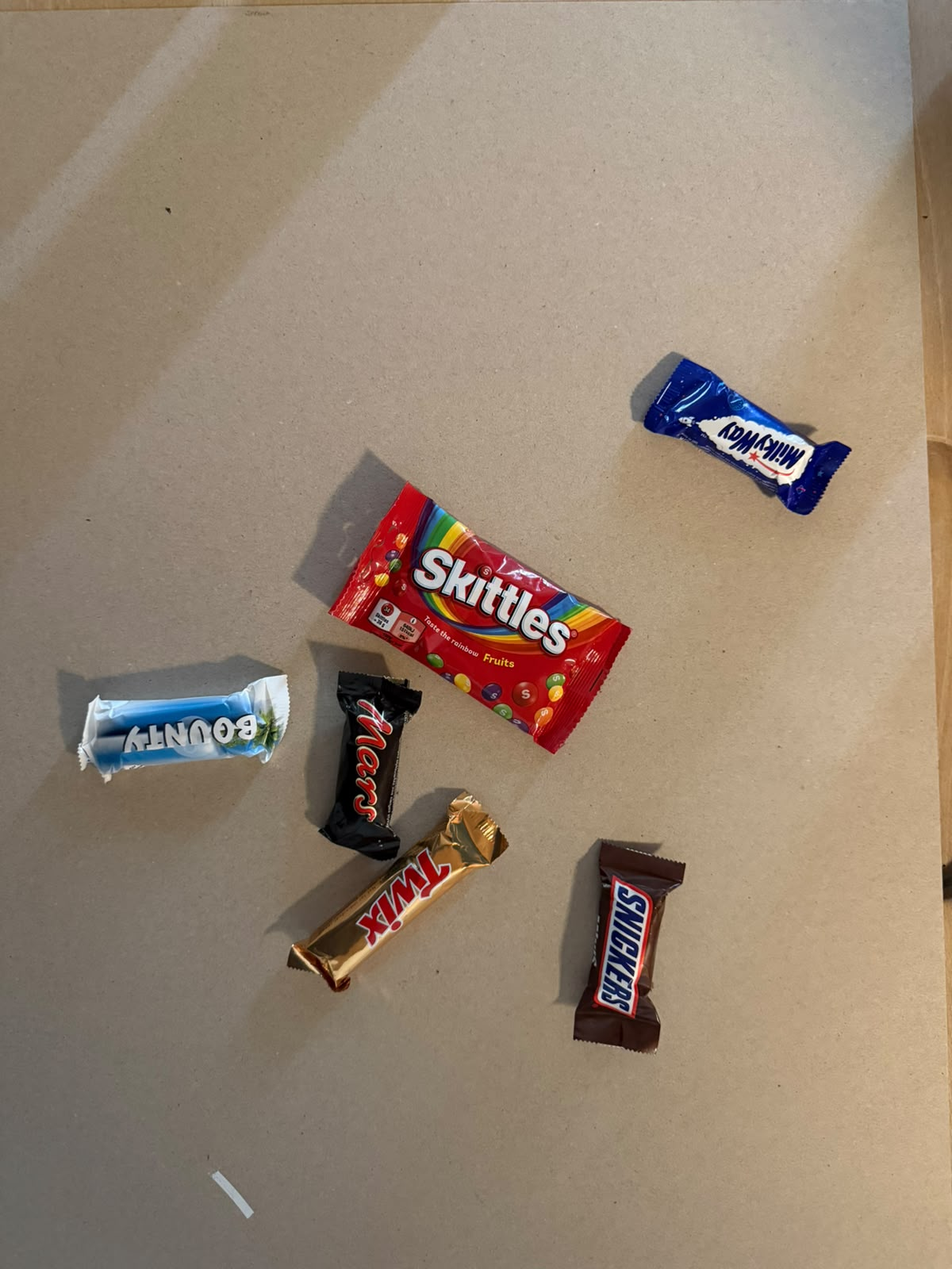Bounty: (65, 693, 303, 780)
Mars: (332, 667, 402, 863)
MilkyWay: (663, 338, 882, 444)
Skittles: (425, 451, 725, 642)
Snickers: (572, 833, 687, 1052)
Twix: (278, 962, 535, 1035)
